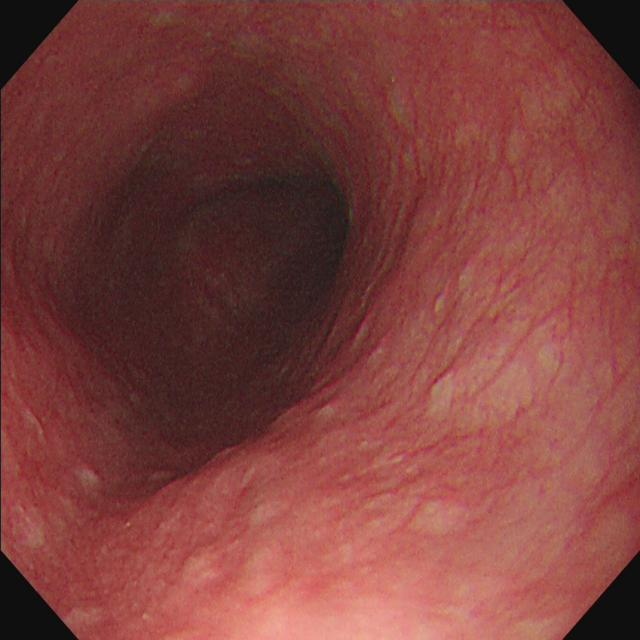A: (123, 392, 369, 554)
E: (186, 159, 362, 354)
